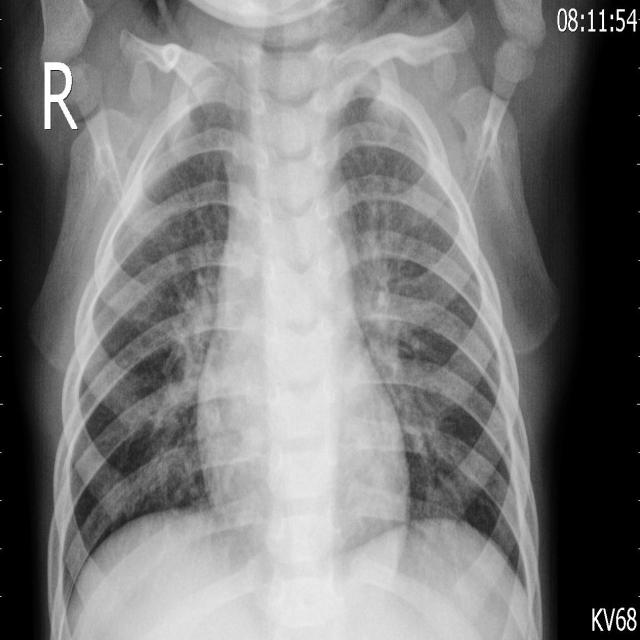low-pneumonia: (357, 204, 444, 447), (139, 251, 215, 484)
